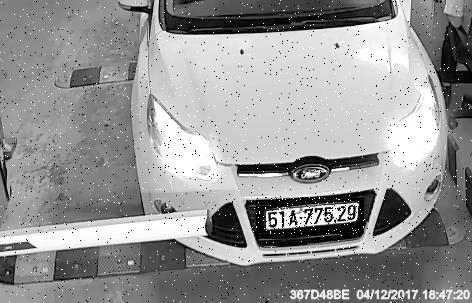License-plate: (257, 198, 365, 235)
